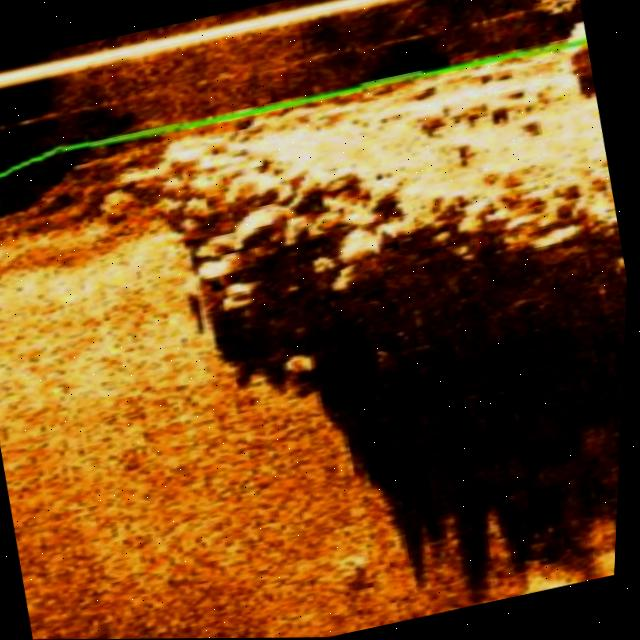bedrock group: (133, 39, 638, 410)
